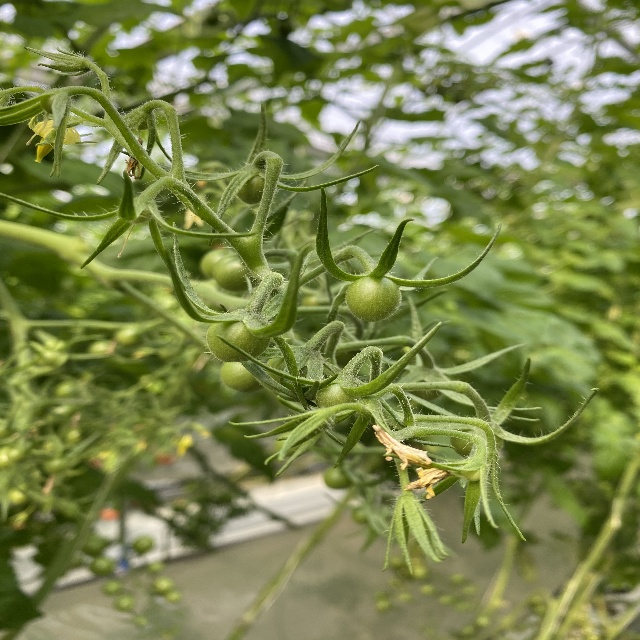l_green: (205, 317, 270, 363), (345, 275, 402, 323), (215, 254, 259, 294), (451, 429, 503, 462), (221, 360, 267, 392), (316, 380, 355, 412), (199, 249, 238, 278), (237, 173, 265, 205), (40, 92, 67, 115), (127, 202, 152, 223), (461, 463, 483, 481)
